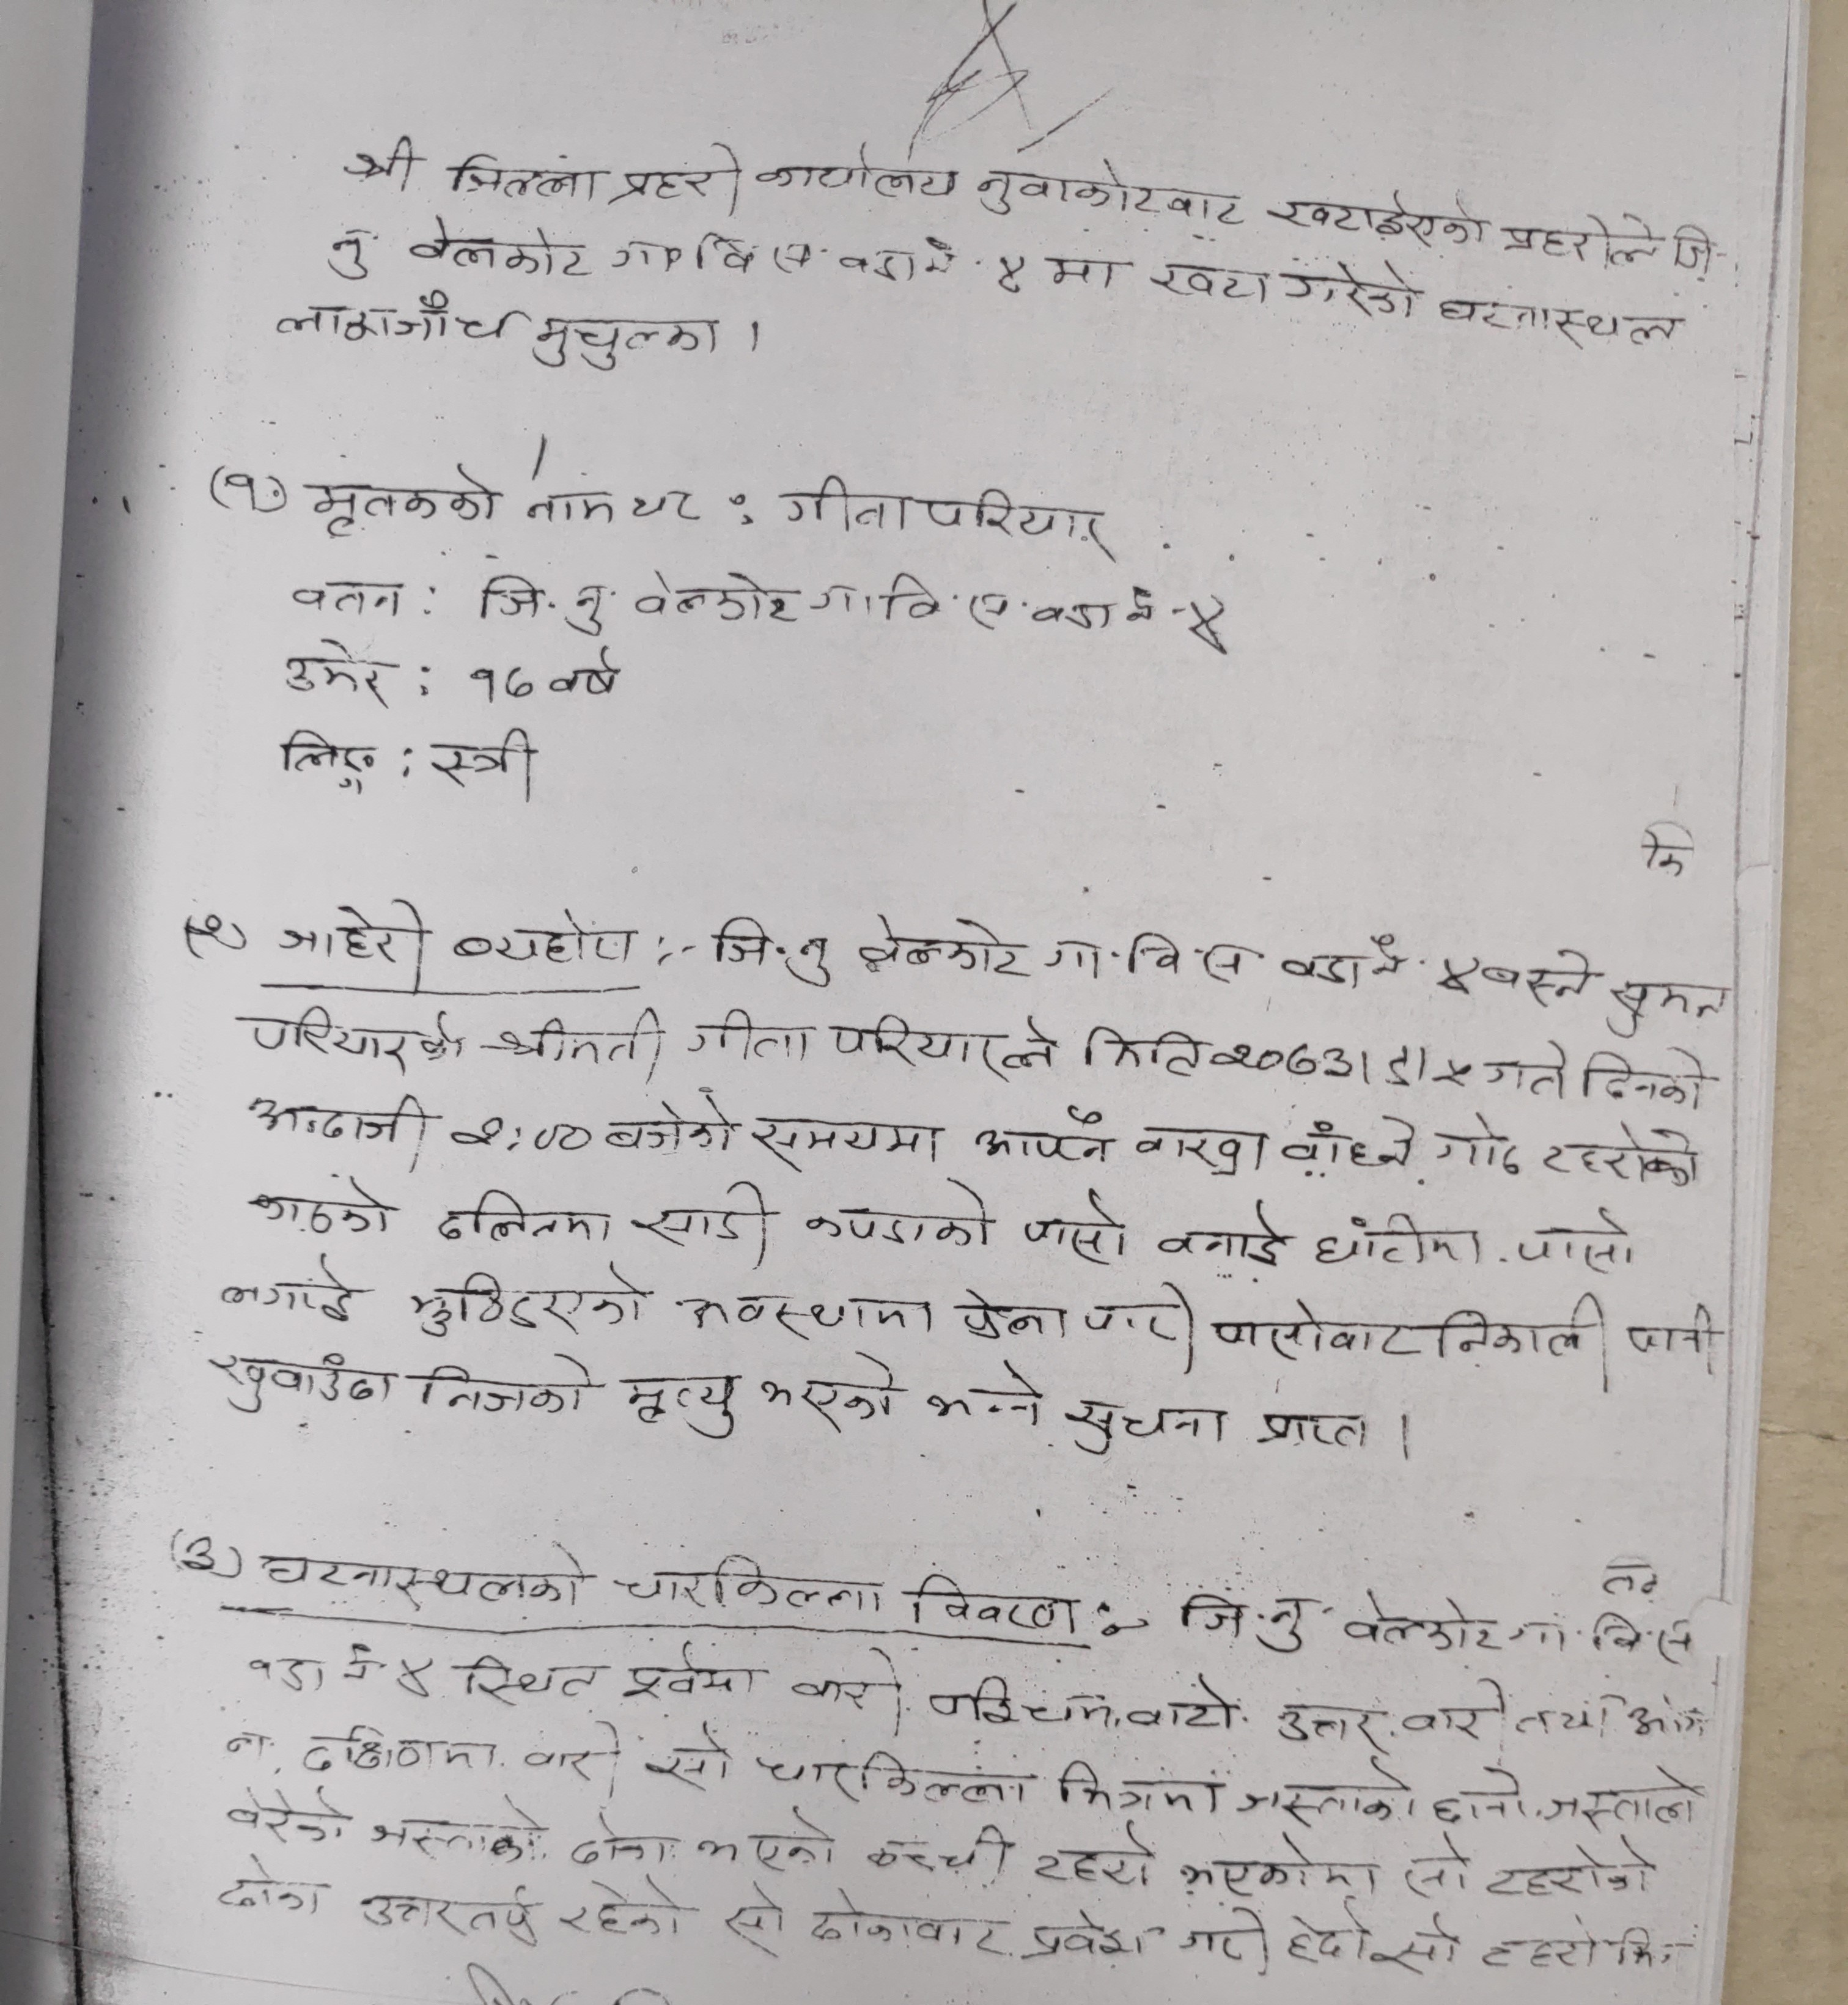text: (1207, 1292, 1610, 1368), (255, 1542, 589, 1614), (975, 159, 1240, 231), (617, 1554, 886, 1623), (403, 1268, 650, 1341), (749, 1745, 1036, 1808), (803, 1883, 1011, 1965), (831, 1006, 1060, 1079), (1209, 1036, 1476, 1097), (246, 1003, 468, 1072), (1268, 183, 1486, 251), (480, 1003, 674, 1078), (271, 286, 512, 346), (1233, 1754, 1418, 1830), (921, 486, 1121, 555), (309, 463, 500, 536), (363, 1794, 548, 1869), (1436, 290, 1677, 348), (800, 1184, 996, 1254), (245, 1088, 433, 1158), (360, 1883, 548, 1953), (1179, 1834, 1387, 1897), (672, 1289, 938, 1338), (204, 1347, 395, 1415), (931, 1668, 1121, 1736), (810, 569, 1017, 632), (405, 213, 594, 281), (852, 913, 1031, 985), (419, 1354, 596, 1425), (751, 145, 959, 204), (274, 896, 430, 975), (749, 1109, 943, 1172), (437, 1184, 620, 1251), (1539, 1118, 1708, 1189), (1481, 1836, 1656, 1904), (1506, 1607, 1705, 1666), (910, 1570, 1081, 1638), (629, 1181, 770, 1263), (297, 1720, 498, 1778), (528, 313, 721, 372), (1045, 931, 1249, 987), (1544, 1760, 1705, 1830), (1055, 1755, 1228, 1820), (755, 1350, 896, 1429), (1172, 1579, 1310, 1659), (711, 906, 840, 992), (611, 136, 746, 218), (1155, 1195, 1289, 1277), (1062, 1394, 1228, 1460), (627, 564, 796, 629), (1343, 1586, 1500, 1654), (451, 912, 641, 968), (693, 1802, 842, 1874), (608, 229, 817, 279), (1314, 1209, 1481, 1271), (1031, 1818, 1160, 1895), (1079, 1278, 1191, 1366), (1581, 1039, 1705, 1118), (617, 1638, 763, 1705), (1500, 210, 1659, 271), (861, 1820, 1011, 1884), (218, 1256, 356, 1326), (473, 568, 610, 637), (1018, 1186, 1134, 1268), (1399, 1673, 1509, 1757), (786, 1643, 903, 1722), (603, 1092, 735, 1160), (253, 1175, 393, 1240), (1516, 1207, 1642, 1278), (926, 1357, 1045, 1432), (555, 1874, 686, 1940), (1476, 1909, 1603, 1977), (229, 1781, 355, 1850), (975, 1106, 1113, 1167), (1282, 1109, 1420, 1170), (622, 1369, 742, 1439), (522, 1715, 624, 1797), (1280, 262, 1420, 321), (784, 475, 914, 538), (1134, 1121, 1270, 1181), (449, 154, 603, 206), (458, 1650, 604, 1705), (445, 1109, 596, 1161), (1024, 1911, 1155, 1970), (1607, 978, 1724, 1044), (283, 636, 388, 709), (683, 1008, 816, 1065), (1478, 941, 1595, 1006), (1121, 1668, 1238, 1733), (213, 1855, 328, 1918), (1079, 1020, 1203, 1078), (430, 725, 534, 793), (1431, 1104, 1521, 1182), (1623, 1298, 1717, 1371), (1427, 1764, 1530, 1830), (641, 1717, 734, 1790), (278, 728, 377, 796), (957, 1289, 1072, 1347), (1369, 1914, 1460, 1984), (1277, 1696, 1387, 1754), (568, 1809, 671, 1871), (1177, 1905, 1268, 1974), (1478, 1036, 1570, 1102), (1148, 257, 1272, 304), (1280, 1904, 1369, 1967), (1252, 1408, 1373, 1453), (293, 578, 414, 622), (723, 1879, 791, 1956), (1513, 1689, 1616, 1738), (344, 131, 417, 190), (1277, 945, 1362, 996), (547, 643, 622, 700), (1403, 1836, 1467, 1900), (245, 1649, 327, 1698), (1183, 589, 1235, 662), (463, 660, 540, 707), (1029, 597, 1116, 637), (522, 491, 615, 527), (835, 246, 917, 286), (1045, 255, 1127, 293), (327, 231, 379, 285), (629, 487, 700, 526), (1431, 947, 1481, 1001), (393, 1652, 437, 1708), (180, 906, 232, 952), (218, 1720, 265, 1760), (992, 251, 1031, 295), (1121, 583, 1158, 629), (182, 1532, 217, 1579), (224, 470, 259, 512)
